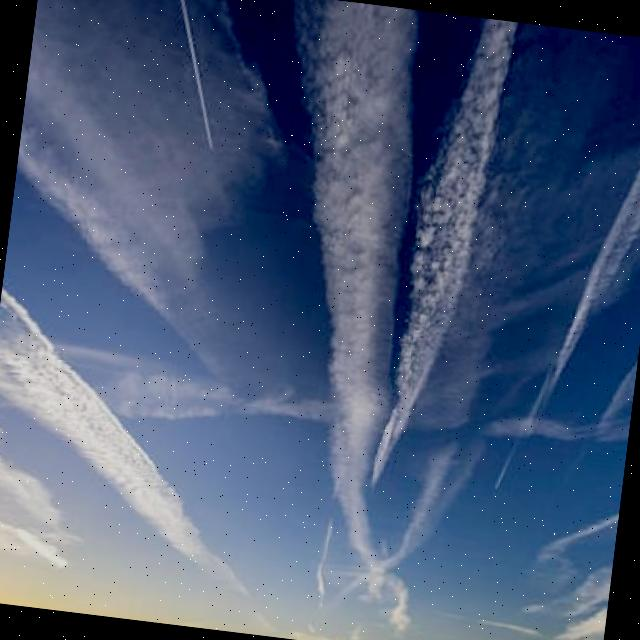Ct: (1, 1, 640, 579)
